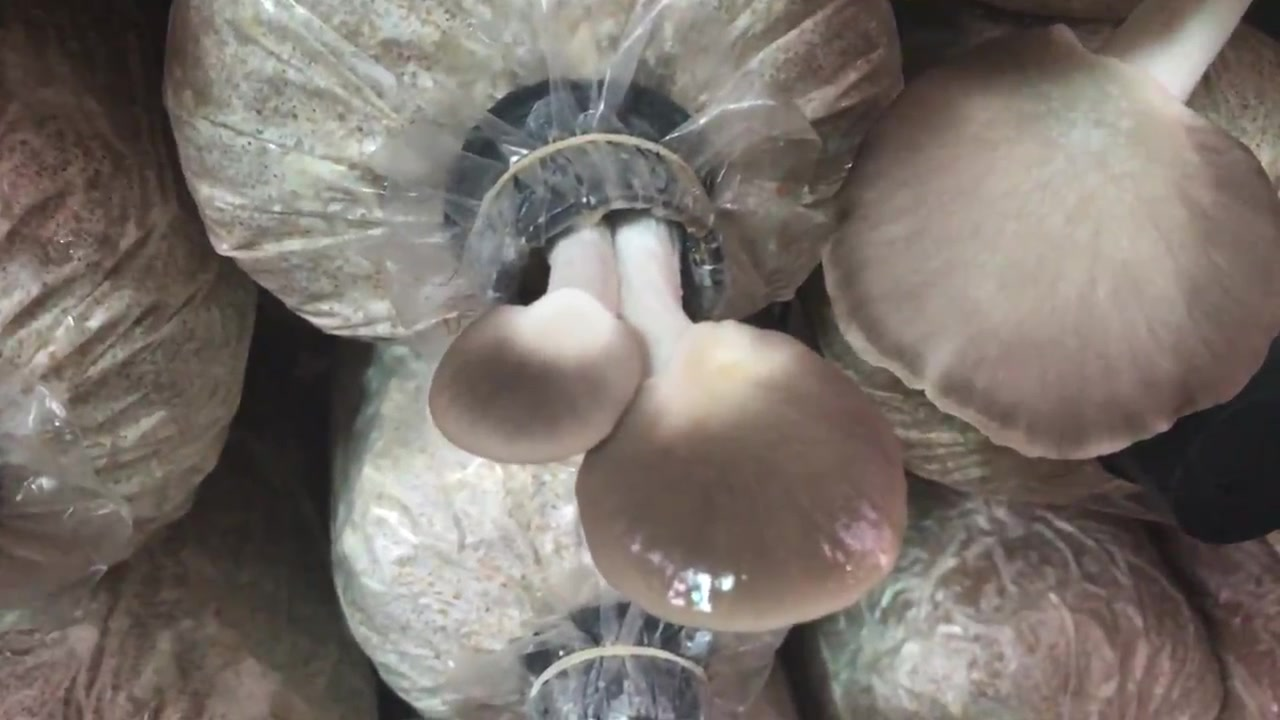nam: (428, 141, 905, 637), (816, 2, 1280, 464)
